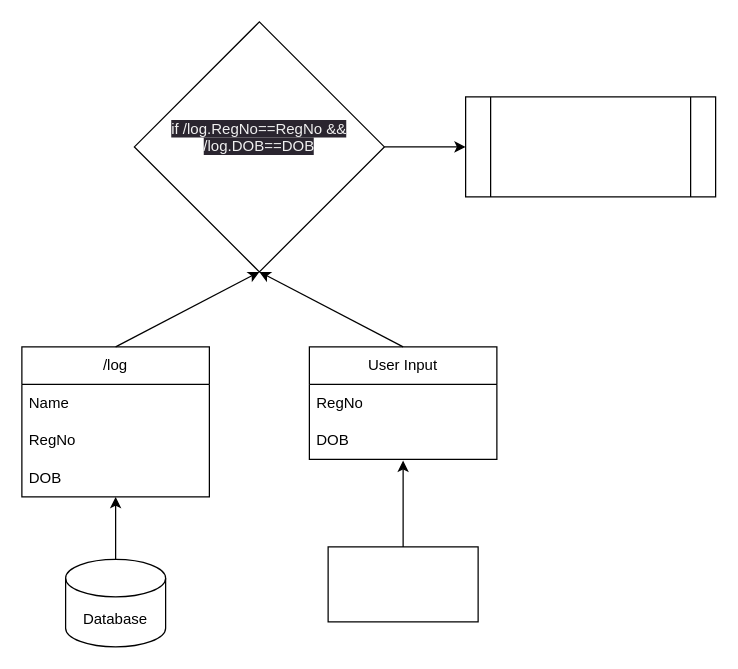
The diagram is 738 pixels wide and 669 high, and some of its shapes have lost their labels. Each missing label, with the centre of its shape:
"Cookies.set Name = /log.Name RegNo = /log.RegNo DOB = /log.DOB" goes at (590,146).
"Login" goes at (402,584).
